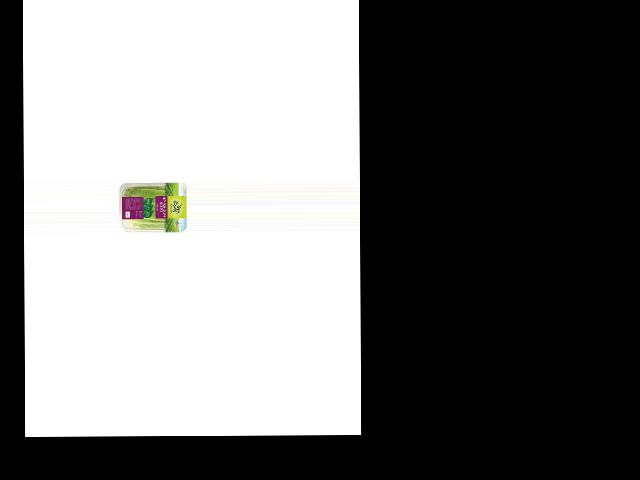lettuce: (118, 182, 181, 233)
